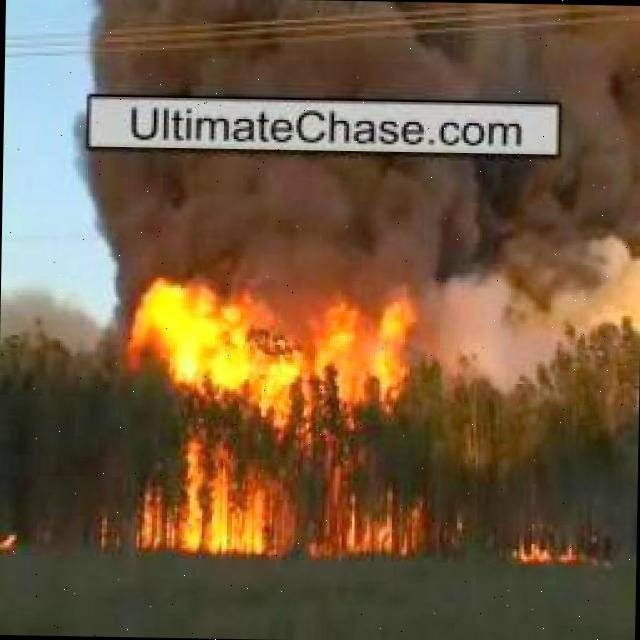fire: (123, 278, 421, 560), (512, 532, 584, 562)
